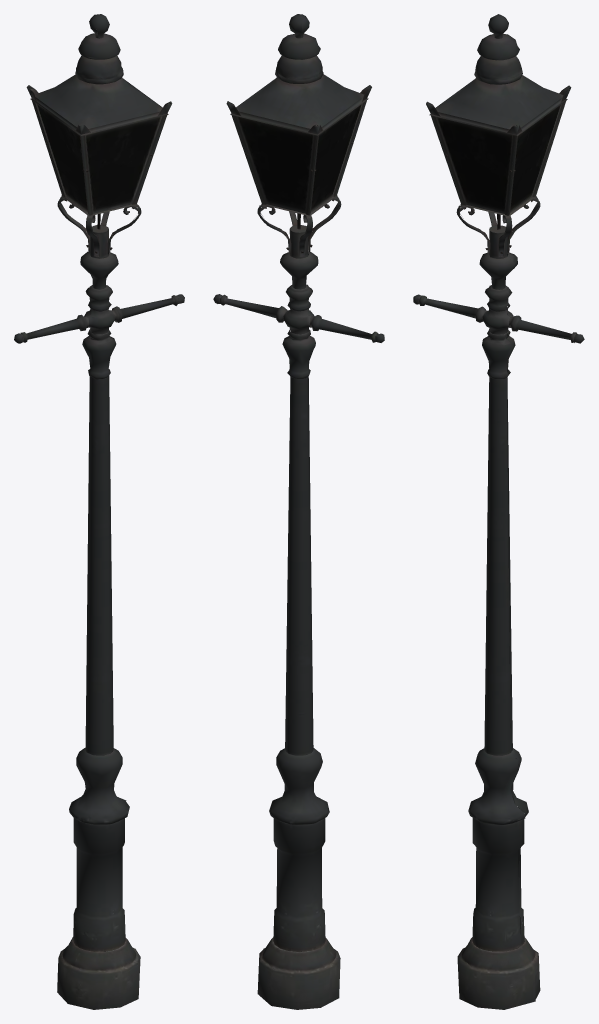
Rendered from street_lamp_01.glb.
3 views of the same model, side by side, from view 1: azimuth 30°, elevation 25°; view 2: azimuth 150°, elevation 25°; view 3: azimuth 330°, elevation 25° (orthographic).
Visible parts, largest first — view 1: street_lamp_01; view 2: street_lamp_01; view 3: street_lamp_01.
Boxes of the visible parts, x1,y1,x2,y2 form: street_lamp_01: (14, 14, 184, 1009); street_lamp_01: (213, 14, 384, 1009); street_lamp_01: (413, 14, 584, 1009).
Bounding box in the file's own units: 0.7061 × 3.87 × 0.3839.
3 materials, 3 textured.
